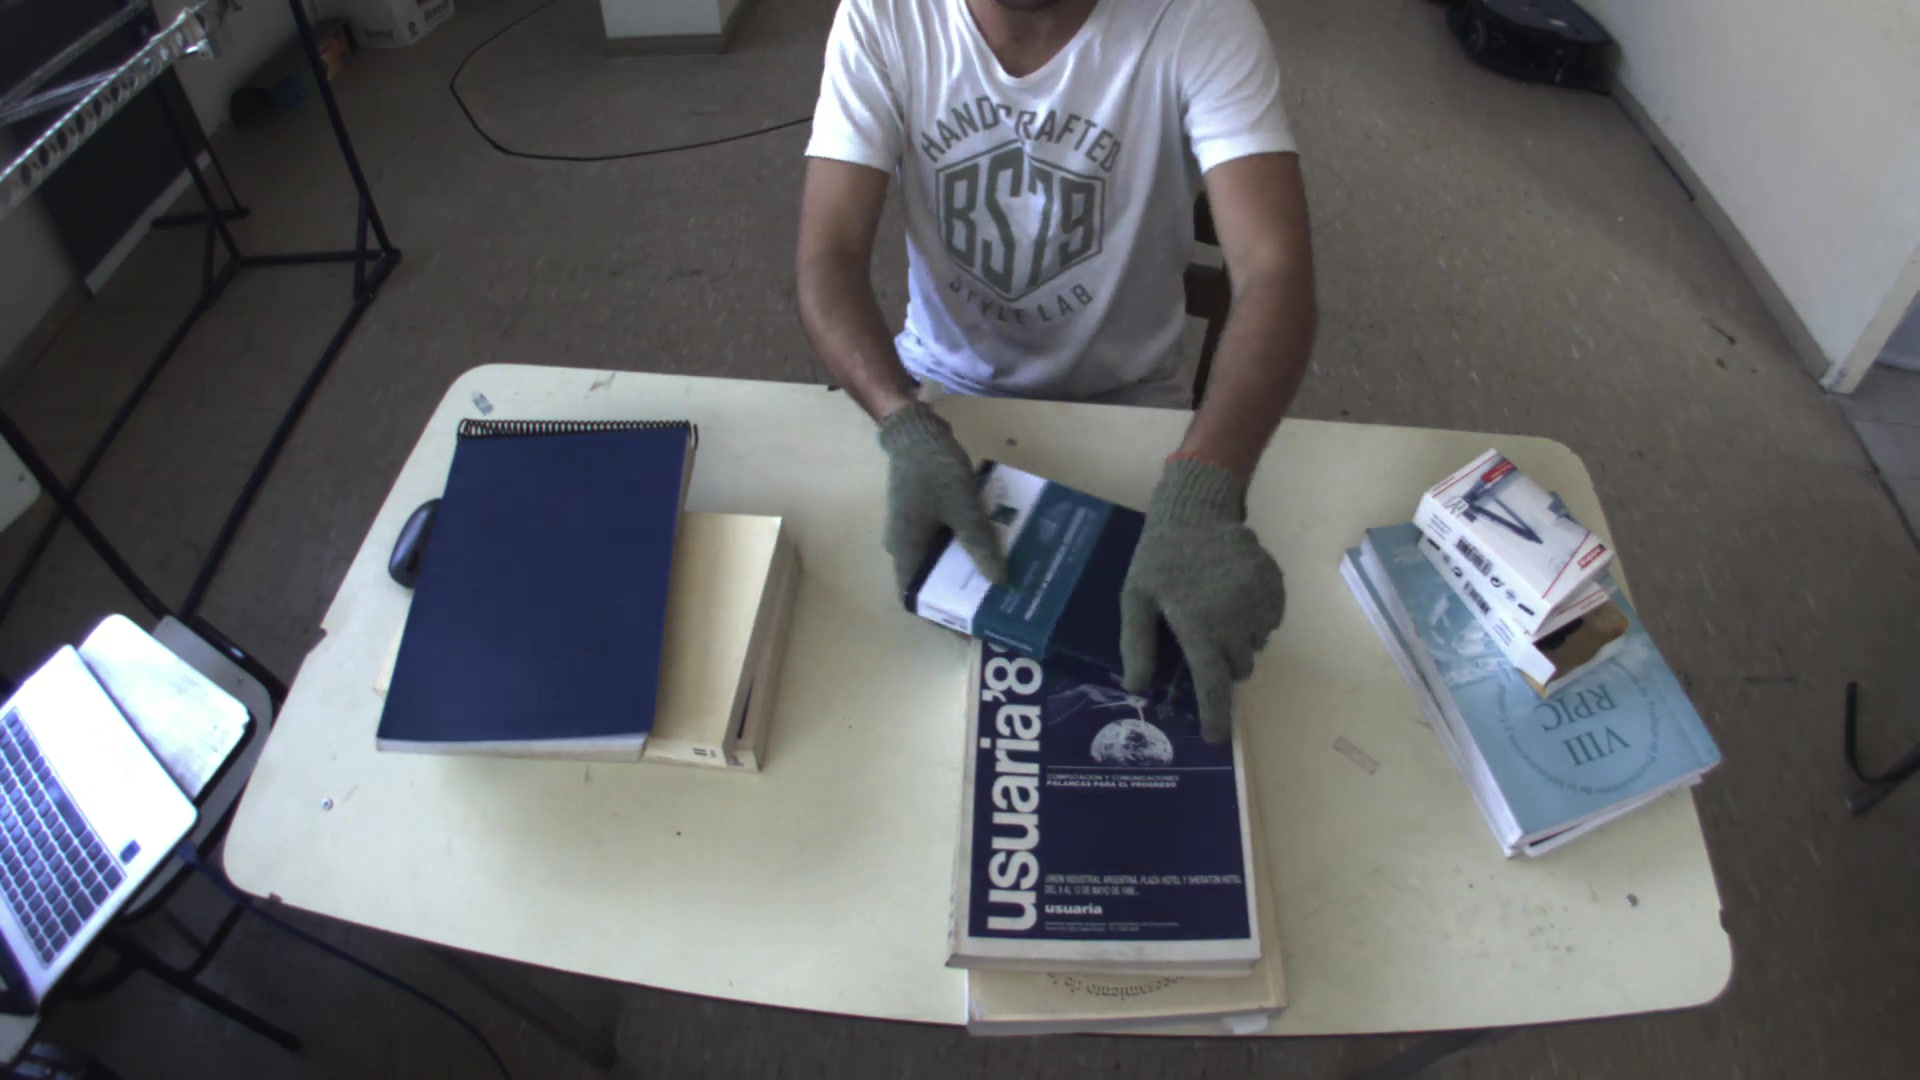hand: (1118, 440, 1302, 741), (861, 394, 1026, 597)
